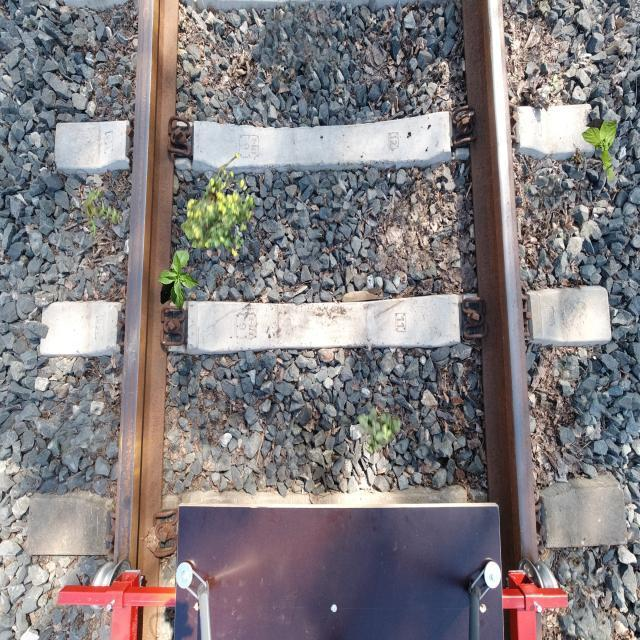Plant: (181, 152, 256, 257), (158, 250, 200, 310), (82, 185, 124, 239), (582, 118, 618, 180), (357, 406, 400, 456), (212, 202, 226, 218)
